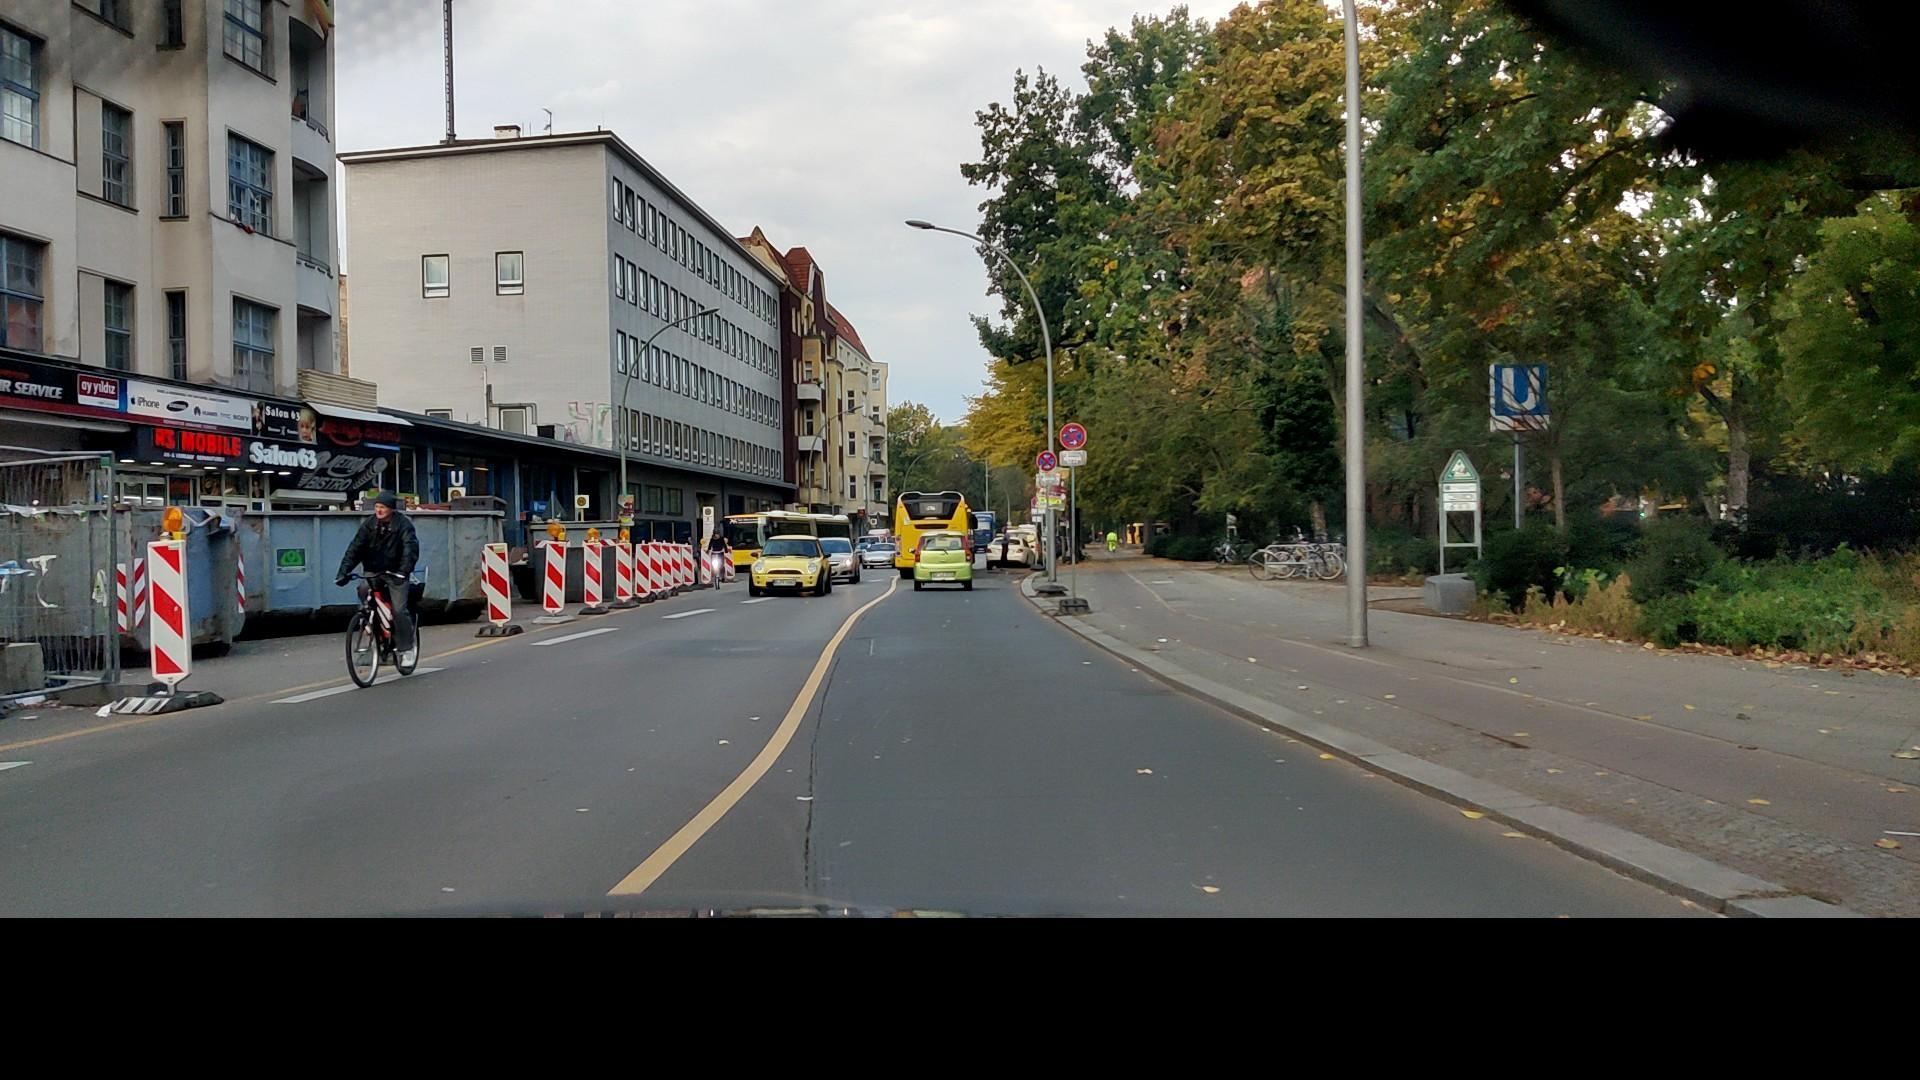Human face: (374, 496, 395, 520)
